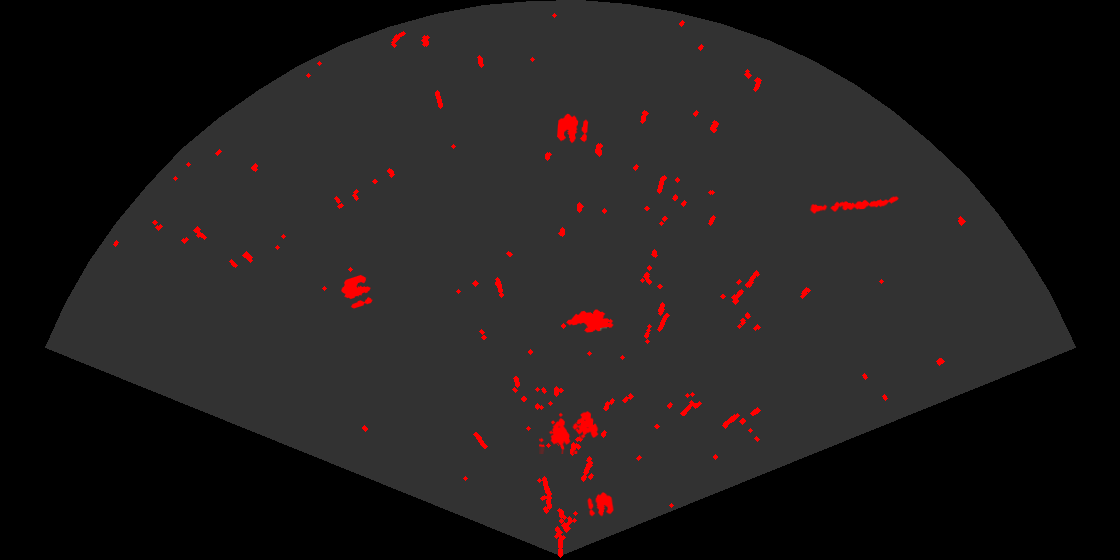AUV: (565, 308, 615, 334)
ball: (340, 273, 374, 310), (555, 112, 590, 145), (586, 491, 615, 518)
cage: (539, 410, 600, 454)
chain: (809, 194, 900, 216)
